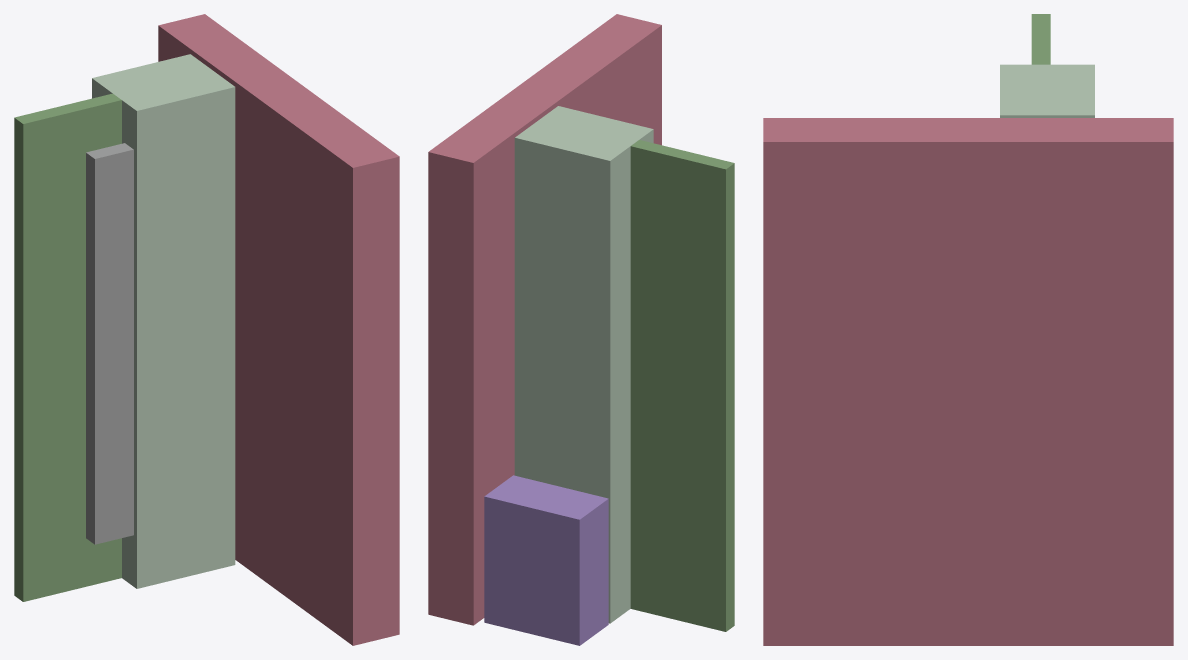
The model's file is 199537_pred.glb.
3 views of the same model, side by side, from view 1: azimuth 30°, elevation 25°; view 2: azimuth 150°, elevation 25°; view 3: azimuth 270°, elevation 25° (orthographic). The views are drawn at different scales.
Parts seen in each view (by area): view 1: world; view 2: world; view 3: world.
Part boxes in pixels (x1,y1,x2,y2): world: (14,14,399,645); world: (428,14,734,645); world: (763,14,1173,645).
Bounding box in the file's own units: 4.8 × 8.8 × 6.5.
